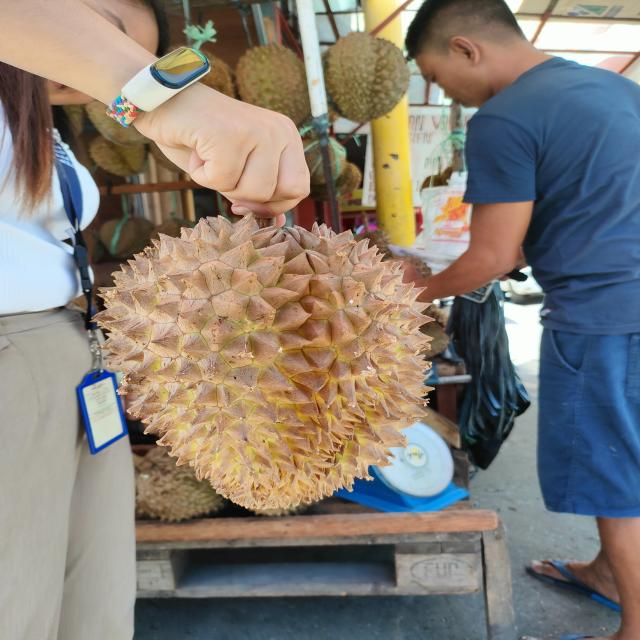mature: (85, 211, 443, 514)
